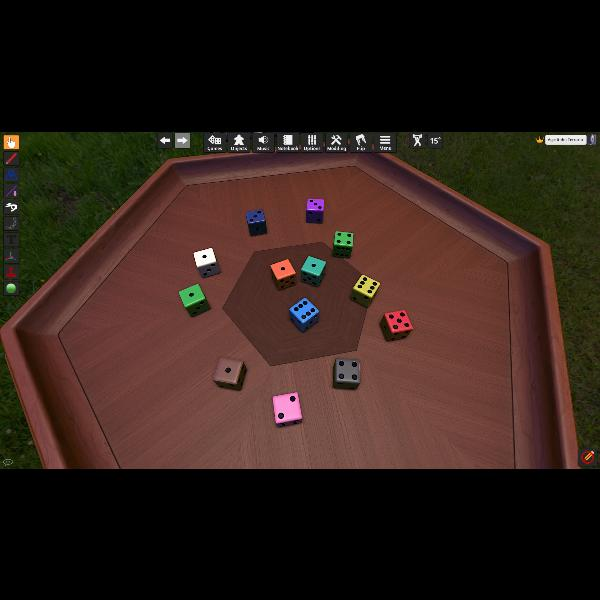d6: (213, 357, 245, 390), (289, 298, 320, 332), (272, 392, 302, 426), (179, 284, 209, 316), (350, 274, 379, 306), (379, 309, 408, 340), (333, 357, 361, 389), (270, 258, 296, 290), (300, 255, 326, 287), (193, 247, 219, 279), (246, 208, 268, 236), (332, 230, 352, 258), (306, 198, 325, 222)
